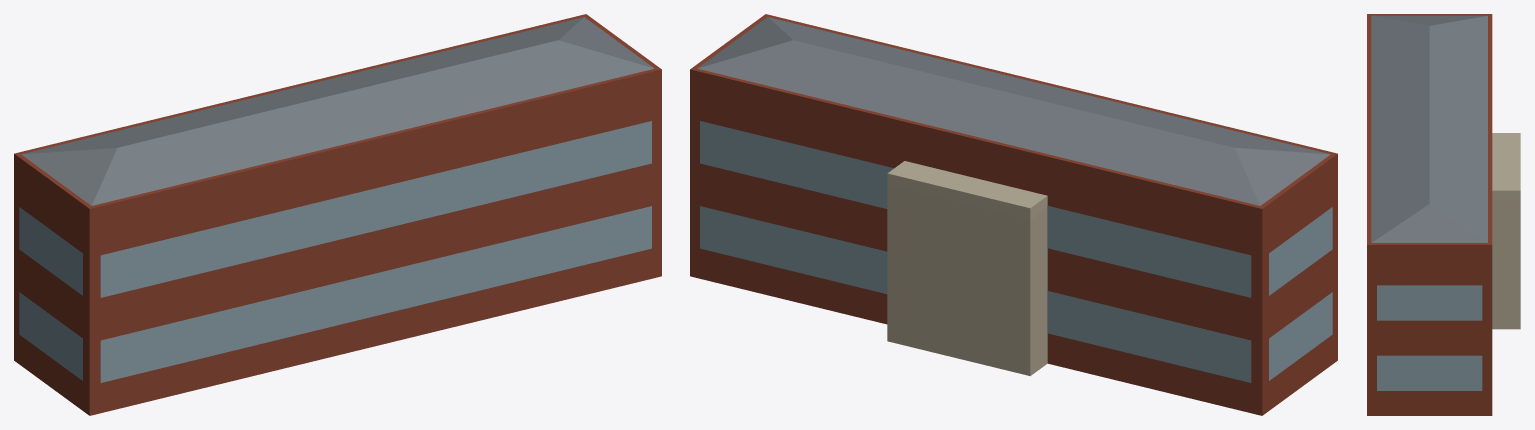
The picture shows the model from 3 angles, left to right: view 1: azimuth 30°, elevation 25°; view 2: azimuth 150°, elevation 25°; view 3: azimuth 270°, elevation 25°; orthographic projection. The views are drawn at different scales.
Parts seen in each view (by area): view 1: queens-borough-hall-lod3; view 2: queens-borough-hall-lod3; view 3: queens-borough-hall-lod3.
Part boxes in pixels (x1,y1,x2,y2): queens-borough-hall-lod3: (14,14,661,415); queens-borough-hall-lod3: (690,14,1337,415); queens-borough-hall-lod3: (1367,14,1520,415).
Size of the model in its own units: 111 by 41.4 by 31.21.
